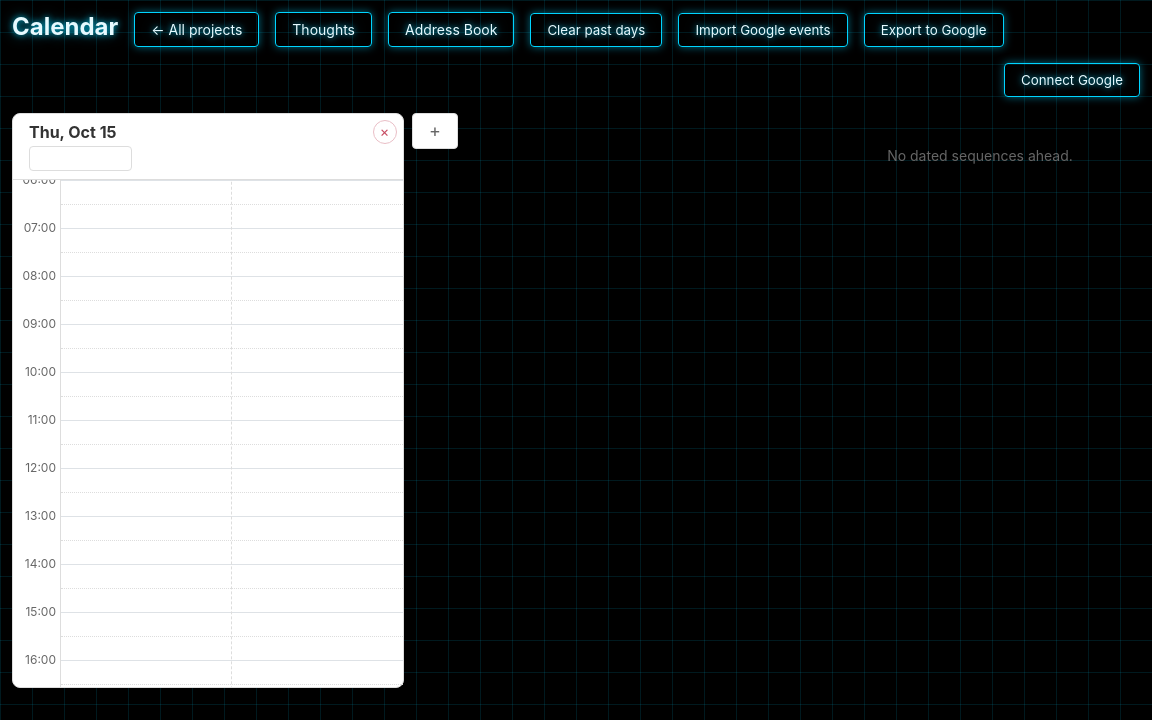
Scenario: CalendarPage export › a failed export shows its message in the alert and Dismiss clears it
The image size is (1152, 720).
(page scrolled)
Click the button "Export to Google": (934, 30) [864,13,1004,47]
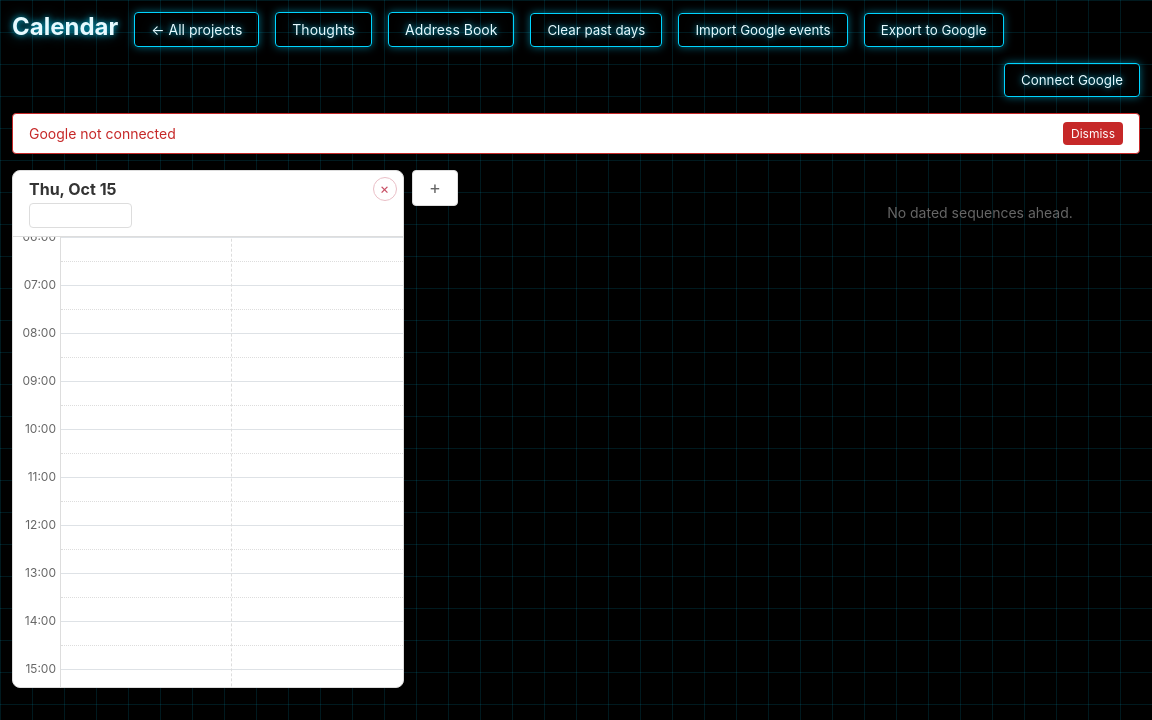
Result: the text "Google not connected" is shown at [29,125,176,142]
Click the button with aria-label "Dismiss error": (1093, 134) [1063,122,1123,145]
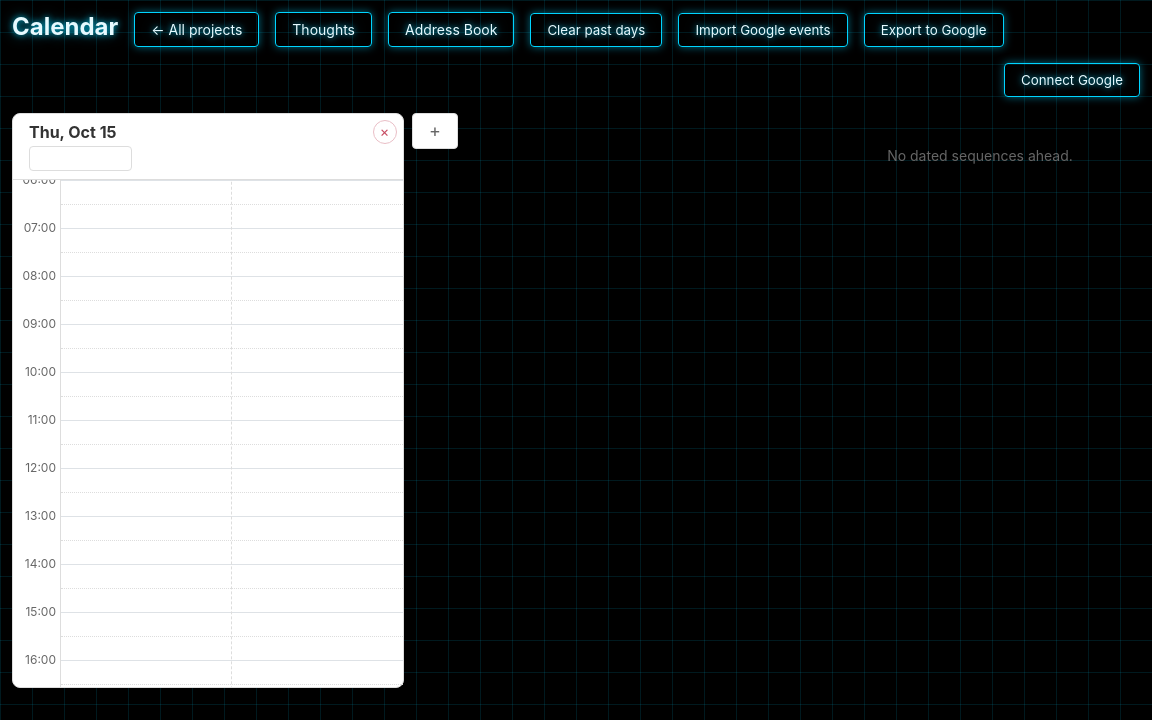
Result: the text "Google not connected" is gone
